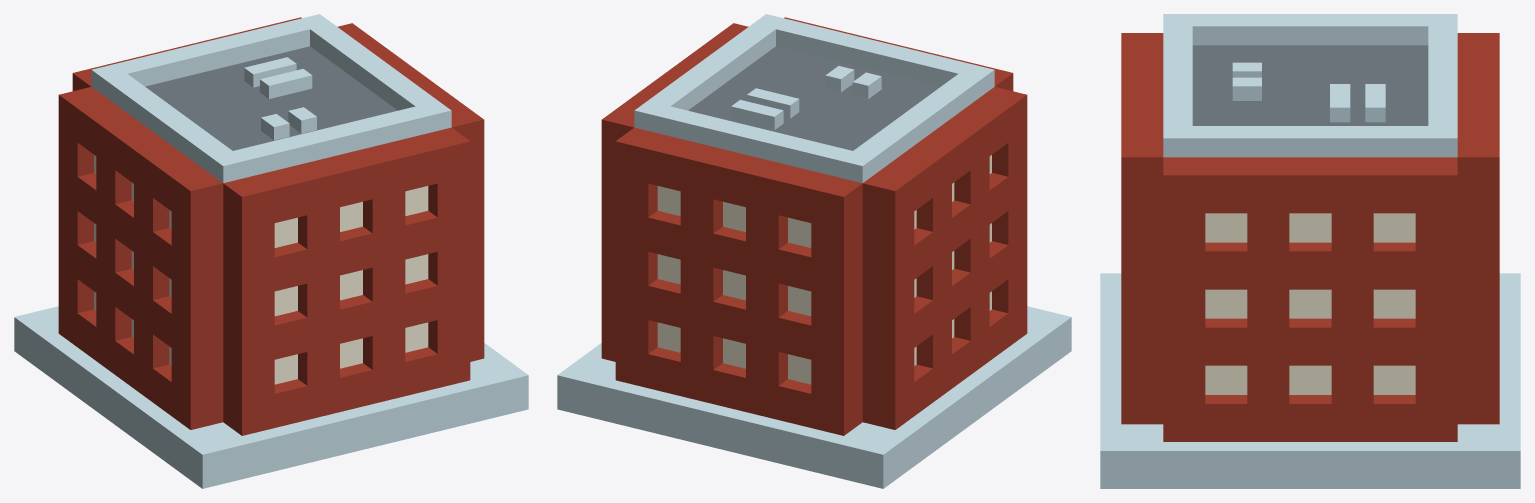
The model's file is Building_1_Base_Extra (Red).obj.
3 renders of one model, left to right at view 1: azimuth 30°, elevation 25°; view 2: azimuth 150°, elevation 25°; view 3: azimuth 270°, elevation 25°, orthographic. The views are drawn at different scales.
Visible parts, largest first — view 1: Building_1_Base_Extra_(Red); view 2: Building_1_Base_Extra_(Red); view 3: Building_1_Base_Extra_(Red).
Part boxes in pixels (x1=…): Building_1_Base_Extra_(Red): x1=14, y1=14, x2=528, y2=488; Building_1_Base_Extra_(Red): x1=557, y1=14, x2=1071, y2=488; Building_1_Base_Extra_(Red): x1=1100, y1=14, x2=1520, y2=488.
Size of the model in its own units: 2 by 1.7 by 2.
